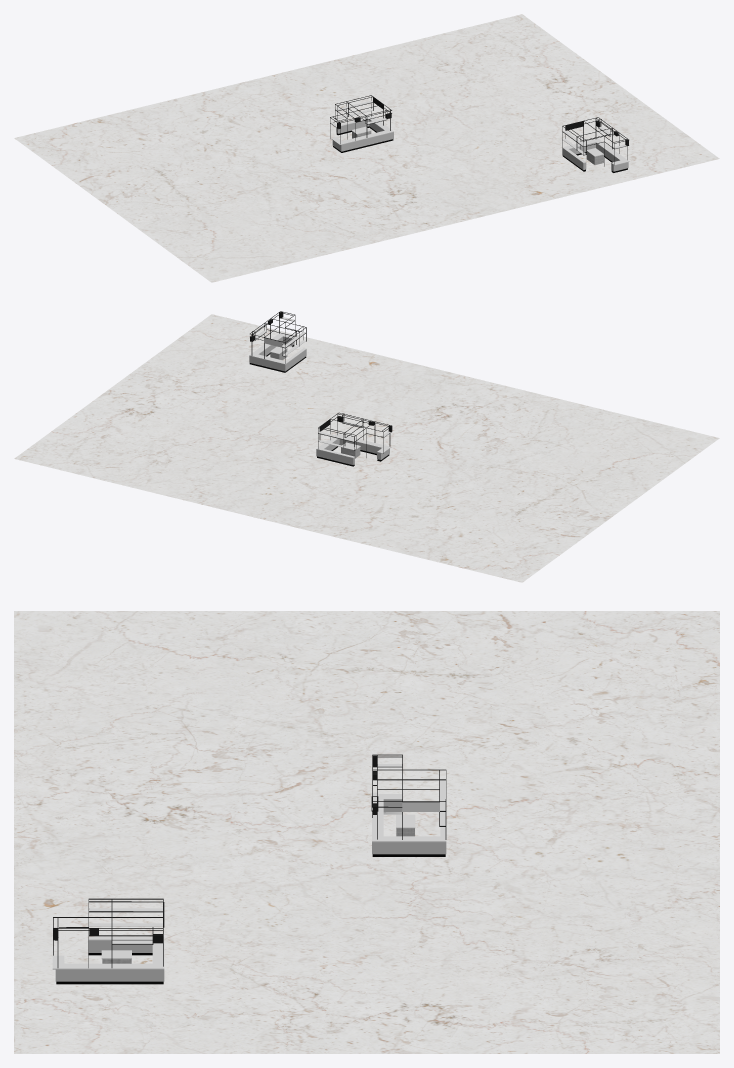
The model's file is Coffee stand + floor.fbx.
3 renders of one model, top to bottom at view 1: azimuth 30°, elevation 25°; view 2: azimuth 150°, elevation 25°; view 3: azimuth 270°, elevation 25°, orthographic. The views are drawn at different scales.
Parts seen in each view (by area): view 1: FloorCement_02, CoffeeCornerA.004, CoffeeCornerA, CoffeCornerB.001, CoffeCornerB; view 2: FloorCement_02, CoffeeCornerA.004, CoffeeCornerA, CoffeCornerB.001, CoffeCornerB; view 3: FloorCement_02, CoffeeCornerA, CoffeeCornerA.004, CoffeCornerB, CoffeCornerB.001.
Part boxes in pixels (x1,y1,x2,y2): FloorCement_02: [14, 14, 719, 282]; CoffeeCornerA.004: [331, 116, 393, 152]; CoffeeCornerA: [562, 138, 629, 172]; CoffeCornerB.001: [330, 95, 391, 145]; CoffeCornerB: [562, 117, 628, 166]; FloorCement_02: [14, 314, 719, 582]; CoffeeCornerA.004: [316, 433, 391, 466]; CoffeeCornerA: [249, 332, 306, 372]; CoffeCornerB.001: [318, 412, 392, 457]; CoffeCornerB: [250, 311, 306, 363]; FloorCement_02: [14, 611, 719, 1053]; CoffeeCornerA: [52, 937, 164, 984]; CoffeeCornerA.004: [372, 794, 446, 856]; CoffeCornerB: [53, 898, 164, 967]; CoffeCornerB.001: [371, 754, 446, 839].
Size of the model in its own units: 6332 by 382 by 4266.
